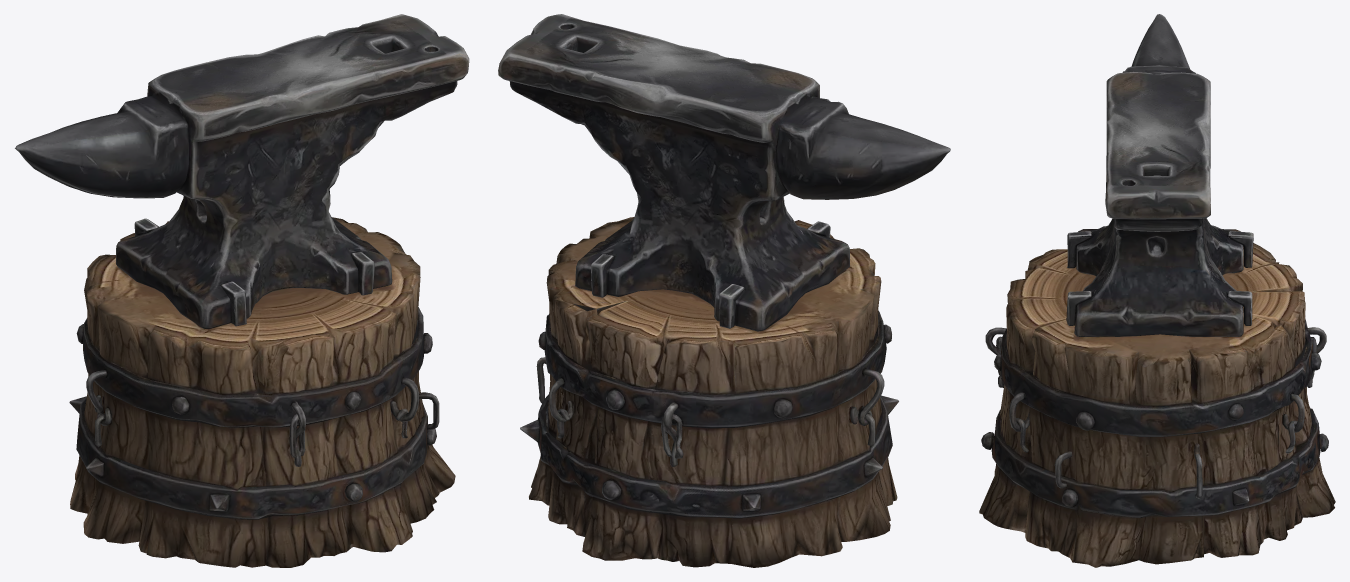
Rendered from forge_anvil.glb.
The picture shows the model from 3 angles, left to right: view 1: azimuth 30°, elevation 25°; view 2: azimuth 150°, elevation 25°; view 3: azimuth 270°, elevation 25°; orthographic projection. The views are drawn at different scales.
Bounding box in the file's own units: 0.9575 × 0.8921 × 0.7431.
Materials: 1 (1 with a texture image).
